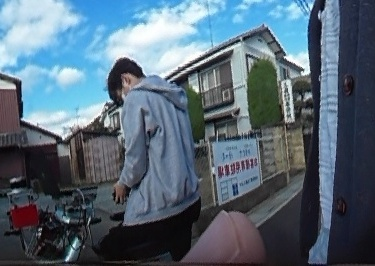person: (99, 54, 195, 258)
